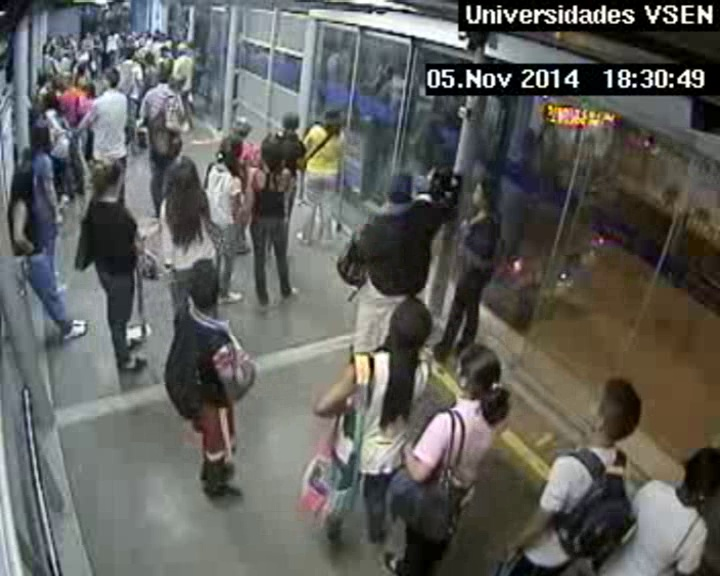person: (585, 380, 642, 446), (452, 342, 507, 406), (387, 298, 440, 352), (681, 446, 720, 496), (187, 259, 225, 305), (167, 154, 201, 191), (93, 164, 125, 198), (470, 178, 499, 211), (424, 165, 453, 197), (12, 163, 39, 194), (388, 174, 414, 203), (261, 141, 288, 168), (218, 135, 242, 161), (280, 111, 303, 135), (320, 109, 343, 132), (234, 117, 253, 139), (30, 131, 49, 152), (101, 69, 119, 88), (89, 49, 103, 65), (44, 93, 58, 107), (40, 73, 53, 87), (143, 52, 156, 65), (123, 46, 135, 60), (85, 83, 97, 96), (157, 71, 169, 84), (176, 75, 188, 87), (108, 51, 119, 64), (76, 63, 87, 75), (54, 80, 65, 91), (77, 77, 87, 89), (64, 44, 74, 55), (48, 35, 57, 47), (79, 40, 88, 50), (137, 36, 146, 46), (164, 38, 173, 48), (119, 31, 128, 40), (160, 46, 169, 55), (177, 41, 186, 50), (56, 36, 65, 45), (177, 48, 185, 58), (95, 23, 103, 31), (143, 31, 151, 39), (107, 28, 115, 35), (43, 44, 50, 52), (50, 46, 57, 54), (84, 30, 91, 37), (92, 32, 99, 39), (155, 29, 162, 36), (153, 35, 160, 42)
